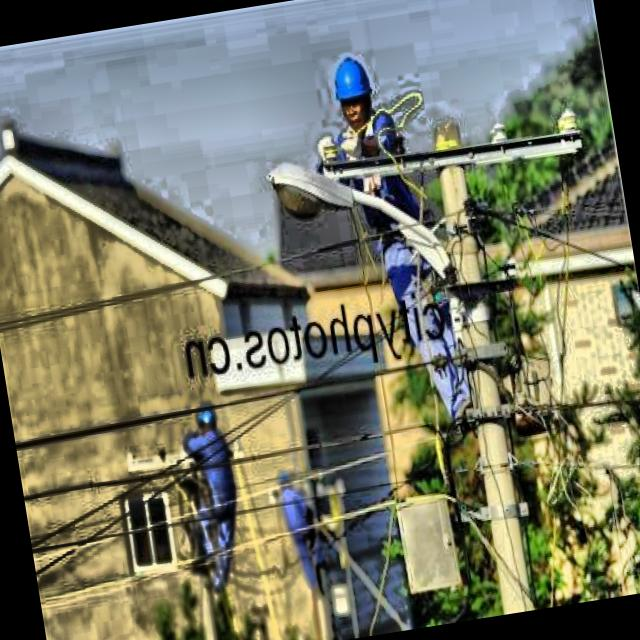helmet: (326, 47, 379, 133), (194, 396, 221, 442)
